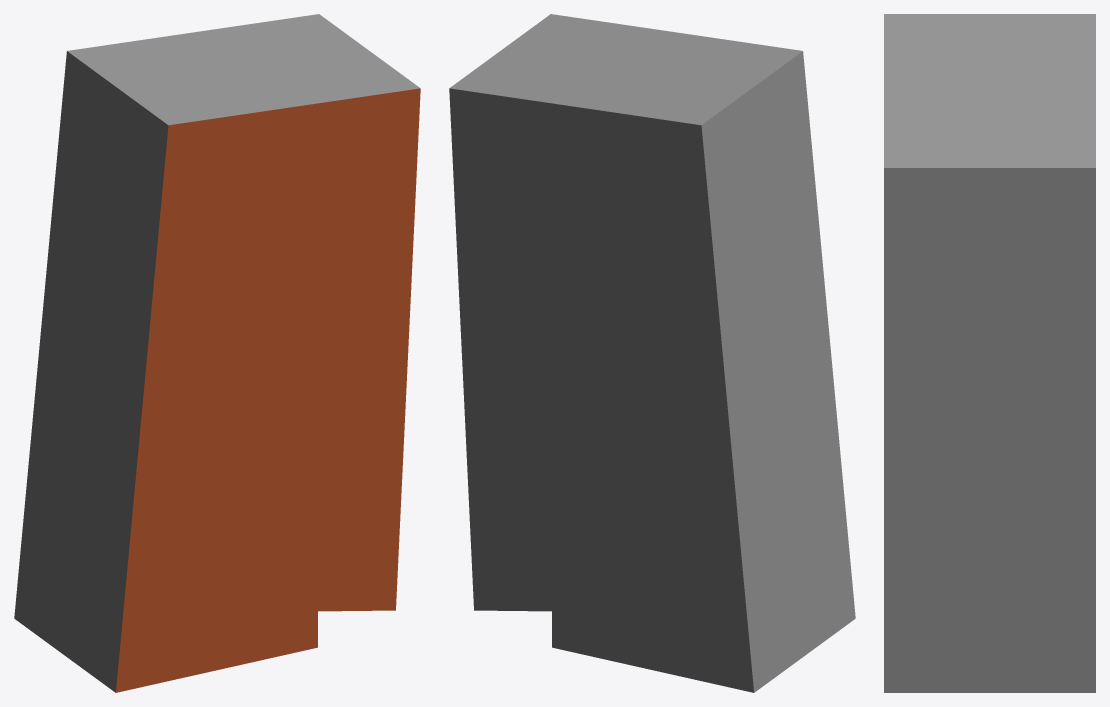
Rendered from construction_5999_assumed_A_Casa_h6m.obj.
3 renders of one model, left to right at view 1: azimuth 30°, elevation 25°; view 2: azimuth 150°, elevation 25°; view 3: azimuth 270°, elevation 25°, orthographic. The views are drawn at different scales.
Visible parts, largest first — view 1: construction_5999_assumed_A_Casa; view 2: construction_5999_assumed_A_Casa; view 3: construction_5999_assumed_A_Casa.
Boxes of the visible parts, <box> form: construction_5999_assumed_A_Casa: <box>14,14,420,692</box>; construction_5999_assumed_A_Casa: <box>449,14,855,692</box>; construction_5999_assumed_A_Casa: <box>884,14,1095,692</box>.
Size of the model in its own units: 10.4 by 18.21 by 6.
